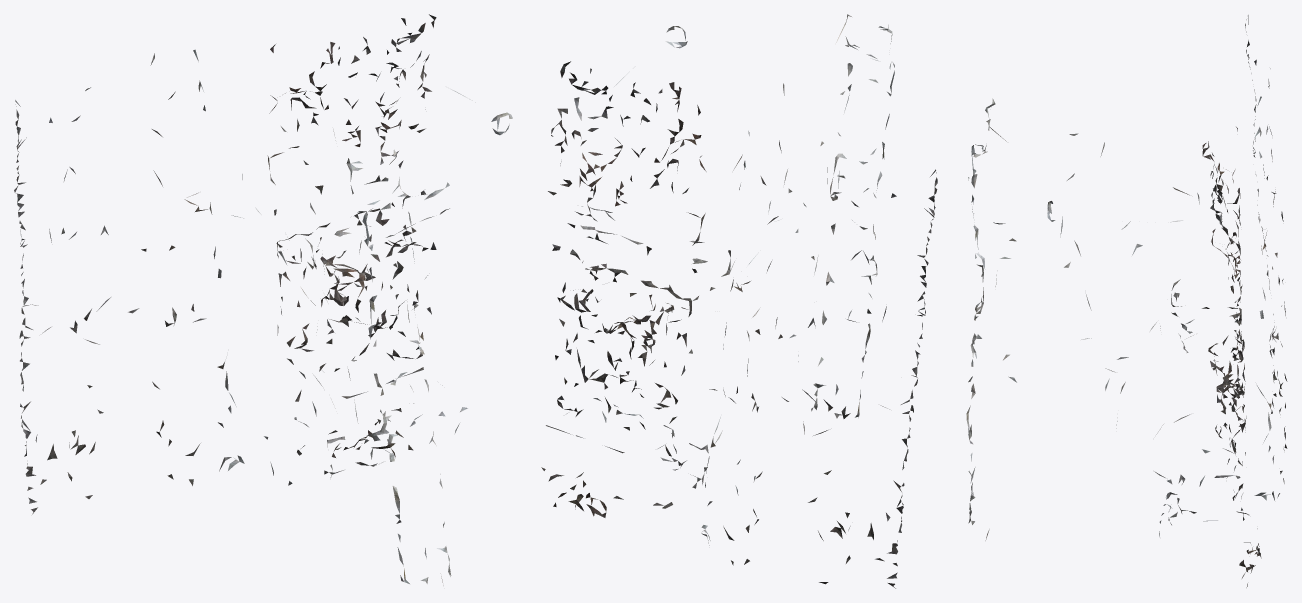
3 renders of one model, left to right at view 1: azimuth 30°, elevation 25°; view 2: azimuth 150°, elevation 25°; view 3: azimuth 270°, elevation 25°, orthographic. The views are drawn at different scales.
Size of the model in its own units: 6.39 by 6.8 by 4.86.
1 material, 1 textured.
